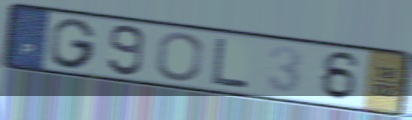3: (266, 44, 307, 96)
6: (317, 50, 361, 103)
9: (107, 24, 147, 77)
G: (48, 16, 100, 70)
L: (210, 36, 251, 90)
O: (153, 31, 205, 83)
